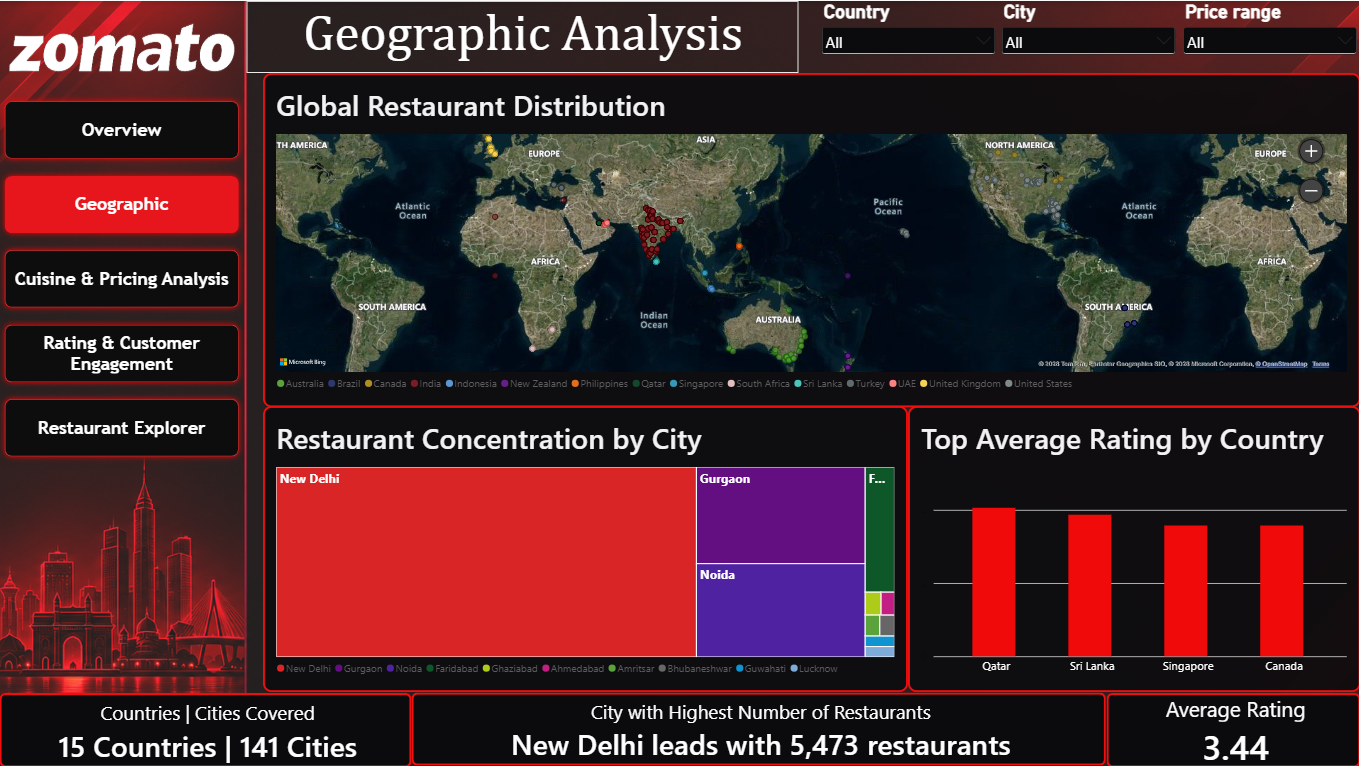

The dashboard page shown, as its layout file describes it:
{"tool":"powerbi","page":{"name":"Geographic","canvas":[1920,1080],"ordinal":1},"visuals":[{"type":"map","title":"Global Restaurant Distribution","fields":{"Series":["Country.Country"],"X":["Zomato_Cleaned_v2.Longitude"],"Y":["Zomato_Cleaned_v2.Latitude"]},"box":[372.8,100.8,1547.4,471.2],"z":0},{"type":"treemap","title":"Restaurant Concentration by City","fields":{"Group":["Zomato_Cleaned_v2.City"],"Values":["CountNonNull(Zomato_Cleaned_v2.Restaurant ID)"]},"box":[372.8,572.1,909.7,403.3],"z":1000},{"type":"columnChart","title":"Top Average Rating by Country","fields":{"Category":["Country.Country"],"Y":["Measures (2).Average Rating"]},"box":[1282.4,572.1,637.7,403.3],"z":2000},{"type":"slicer","fields":{"Values":["Country.Country"]},"box":[1153.7,0,255.1,102],"z":3000},{"type":"slicer","fields":{"Values":["Zomato_Cleaned_v2.City"]},"box":[1408.8,0,255.1,102],"z":4000},{"type":"slicer","fields":{"Values":["Zomato_Cleaned_v2.Price range"]},"box":[1663.9,0,255.1,102],"z":5000},{"type":"cardVisual","fields":{"Data":["Insights.Top City Insight"]},"box":[581.4,975.3,980,103.2],"z":6000},{"type":"cardVisual","fields":{"Data":["Measures (2).Average Rating"]},"box":[1561.4,975.3,358.7,105.5],"z":7000},{"type":"cardVisual","title":"Countries","fields":{"Data":["Insights.Geographic Coverage"]},"box":[0,975.3,581.4,105.5],"z":8000},{"type":"textbox","box":[348,0,780,100.8],"z":9000},{"type":"image","box":[0,0,347,131.3],"z":10000},{"type":"pageNavigator","box":[0,133.6,347,520.5],"z":11000}]}

Visuals, with their boxes in screenshot pixels (x1, y1, x2, y2), scaled from the page's 1920x1080 canvas onto the 1359x766 screenshot:
"Global Restaurant Distribution" map: (x1=264, y1=71, x2=1358, y2=406)
"Restaurant Concentration by City" treemap: (x1=264, y1=406, x2=908, y2=692)
"Top Average Rating by Country" columnChart: (x1=908, y1=406, x2=1358, y2=692)
slicer - Country.Country: (x1=817, y1=0, x2=997, y2=72)
slicer - Zomato_Cleaned_v2.City: (x1=997, y1=0, x2=1178, y2=72)
slicer - Zomato_Cleaned_v2.Price range: (x1=1178, y1=0, x2=1358, y2=72)
cardVisual - Insights.Top City Insight: (x1=412, y1=692, x2=1105, y2=765)
cardVisual - Measures (2).Average Rating: (x1=1105, y1=692, x2=1358, y2=765)
"Countries" cardVisual: (x1=0, y1=692, x2=412, y2=765)
textbox: (x1=246, y1=0, x2=798, y2=71)
image: (x1=0, y1=0, x2=246, y2=93)
pageNavigator: (x1=0, y1=95, x2=246, y2=464)
